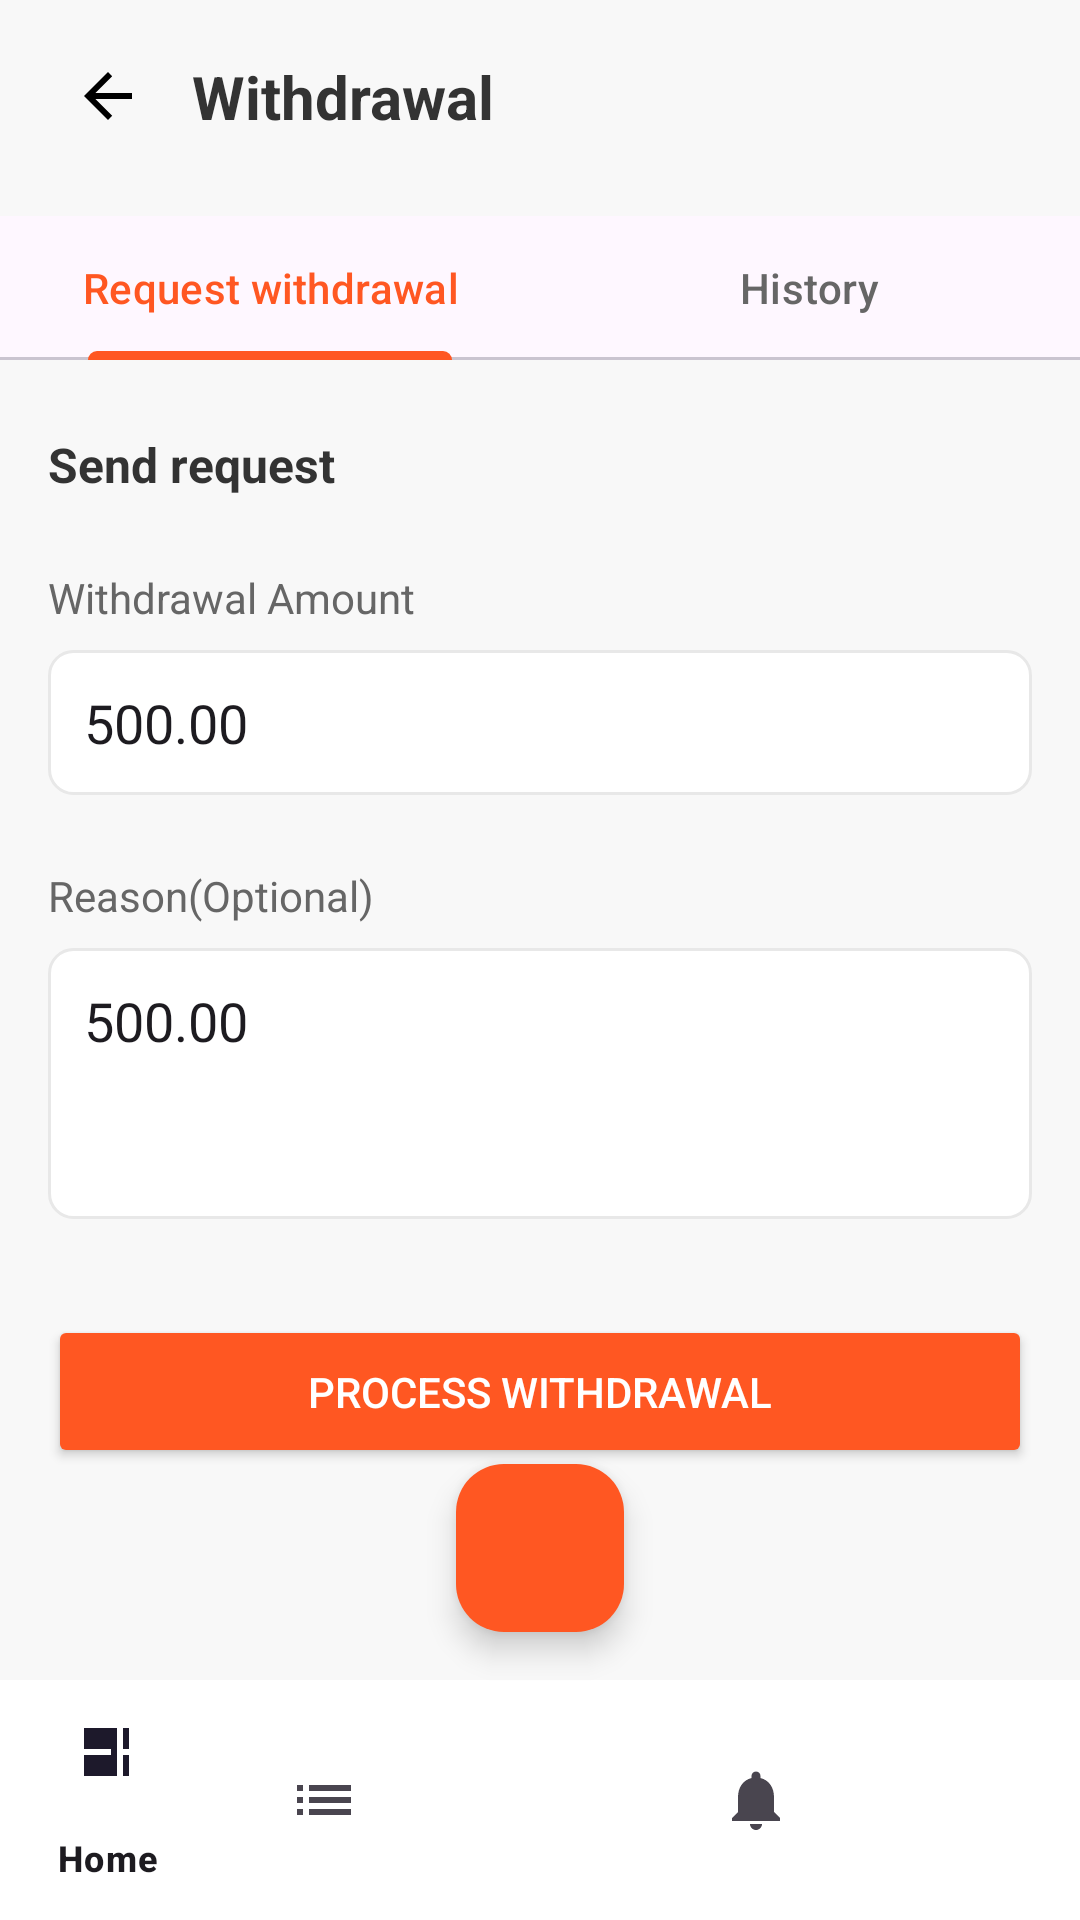

Where icons sit on this 1080px×1920px app screen, as (x1, y1, x2, y2):
Back button: (84, 72, 132, 120)
